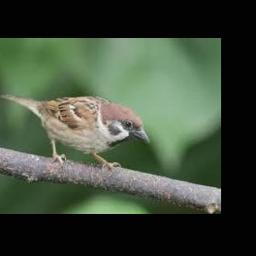Sparrow: (0, 94, 149, 170)
